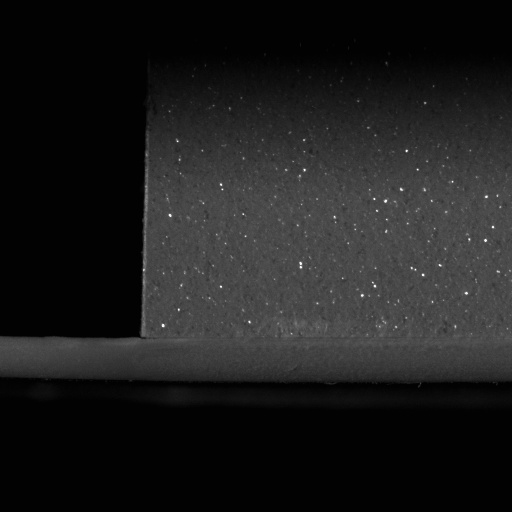changdai: (0, 335, 140, 380)
